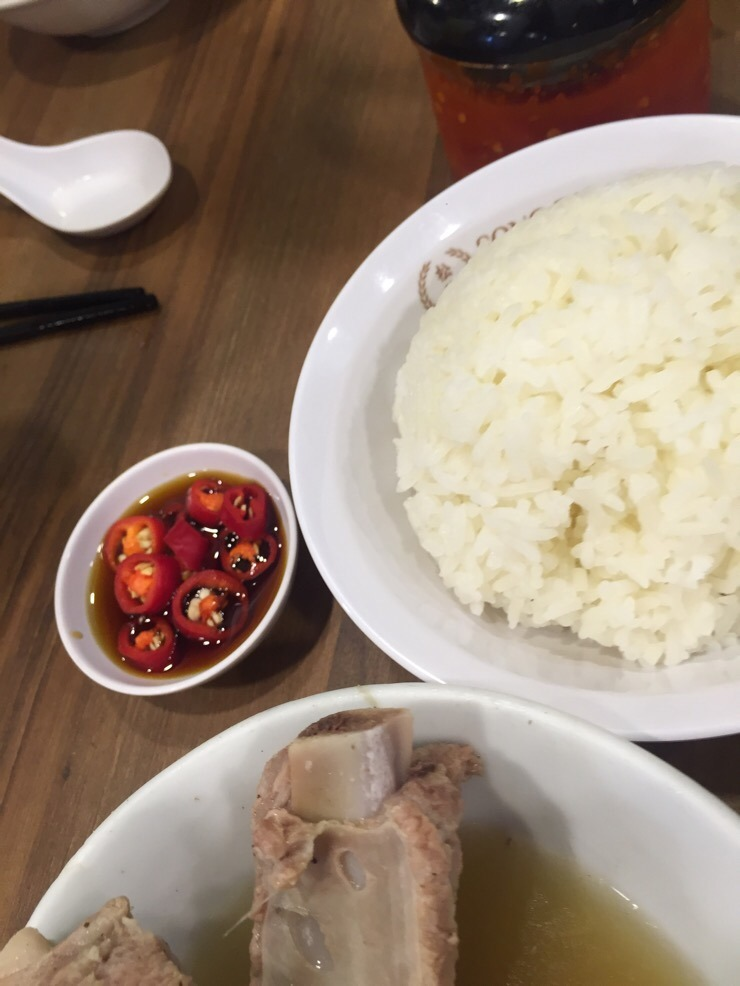plain rice: (398, 175, 740, 631)
